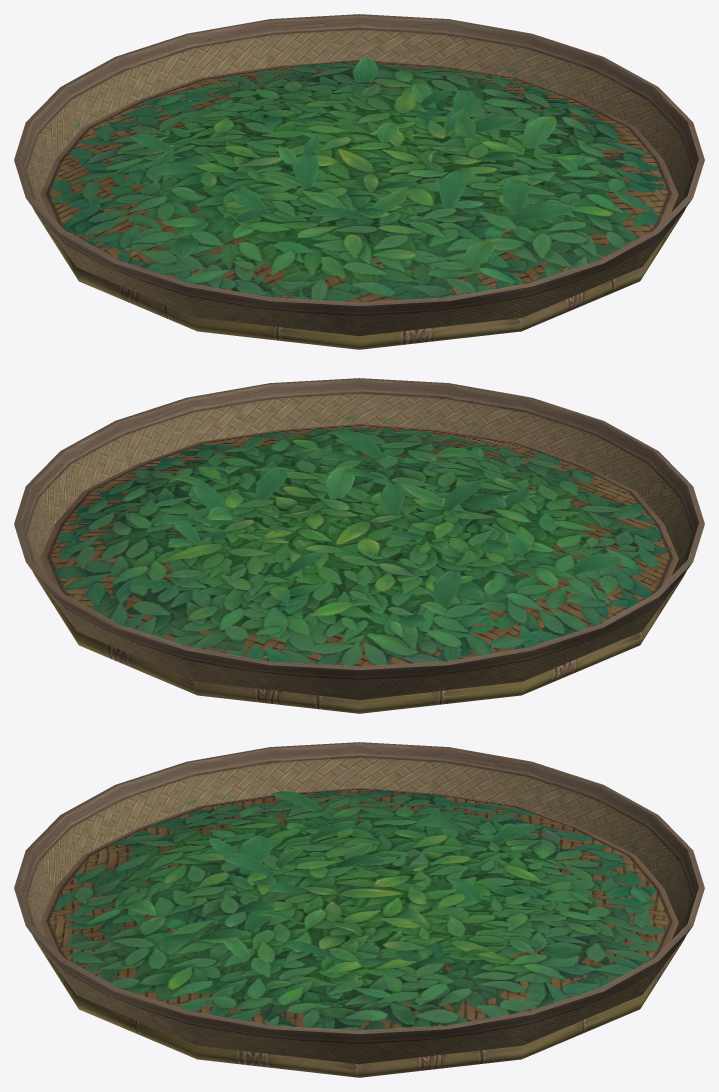
File: Homeworld_Exterior_Cyg_Decoration_Prop_Shaizi_01_Vo.fbx
3 views of the same model, one above another, from view 1: azimuth 30°, elevation 25°; view 2: azimuth 150°, elevation 25°; view 3: azimuth 270°, elevation 25° (orthographic).
Parts seen in each view (by area): view 1: Area_Cyg_Prop_QYZ_Shaizi_01_Vo; view 2: Area_Cyg_Prop_QYZ_Shaizi_01_Vo; view 3: Area_Cyg_Prop_QYZ_Shaizi_01_Vo.
Boxes of the visible parts, bbox=[...] form: Area_Cyg_Prop_QYZ_Shaizi_01_Vo: bbox=[14, 14, 704, 349]; Area_Cyg_Prop_QYZ_Shaizi_01_Vo: bbox=[14, 378, 704, 713]; Area_Cyg_Prop_QYZ_Shaizi_01_Vo: bbox=[14, 742, 704, 1077].
Size of the model in its own units: 1.97 by 0.1978 by 1.97.
